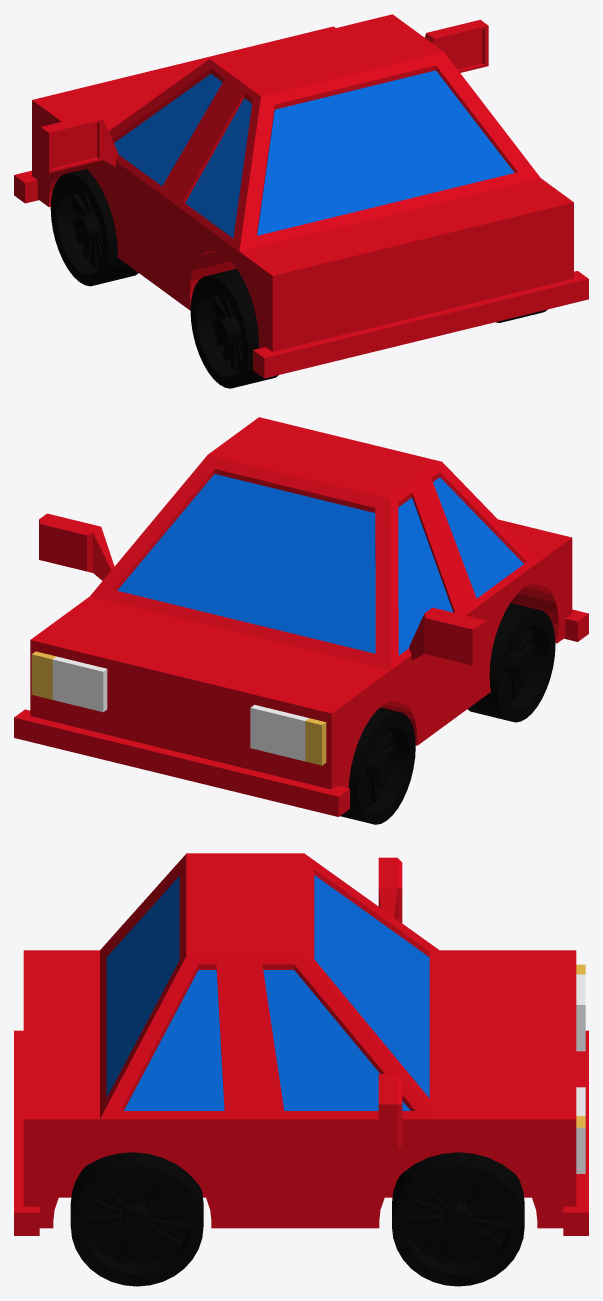
Rendered from car_2.fbx.
3 views of the same model, one above another, from view 1: azimuth 30°, elevation 25°; view 2: azimuth 150°, elevation 25°; view 3: azimuth 270°, elevation 25° (orthographic). The views are drawn at different scales.
Parts seen in each view (by area): view 1: CAR, Cube.003, Cylinder.004, Cylinder.003, Cube.004, Cube.002; view 2: CAR, Cube.002, Cube.001, Cube.004, Cylinder.004, Cylinder.003, Cube.003; view 3: CAR, Cylinder.001, Cylinder.002, Cube.004, Cube.003, Cube.002, Cube.001.
Boxes of the visible parts, x1,y1,x2,y2 form: CAR: [32, 14, 573, 351]; Cube.003: [253, 271, 588, 378]; Cylinder.004: [190, 268, 278, 388]; Cylinder.003: [50, 169, 138, 286]; Cube.004: [41, 19, 488, 173]; Cube.002: [14, 170, 38, 203]; CAR: [30, 417, 572, 789]; Cube.002: [14, 709, 349, 816]; Cube.001: [31, 651, 326, 765]; Cube.004: [39, 513, 486, 666]; Cylinder.004: [467, 603, 555, 722]; Cylinder.003: [340, 707, 415, 824]; Cube.003: [564, 609, 588, 641]; CAR: [23, 853, 576, 1228]; Cylinder.001: [392, 1152, 524, 1286]; Cylinder.002: [70, 1152, 203, 1286]; Cube.004: [378, 857, 402, 1150]; Cube.003: [14, 1030, 39, 1235]; Cube.002: [563, 1030, 588, 1235]; Cube.001: [576, 964, 585, 1173].
Size of the model in its own units: 389 by 217 by 383.
